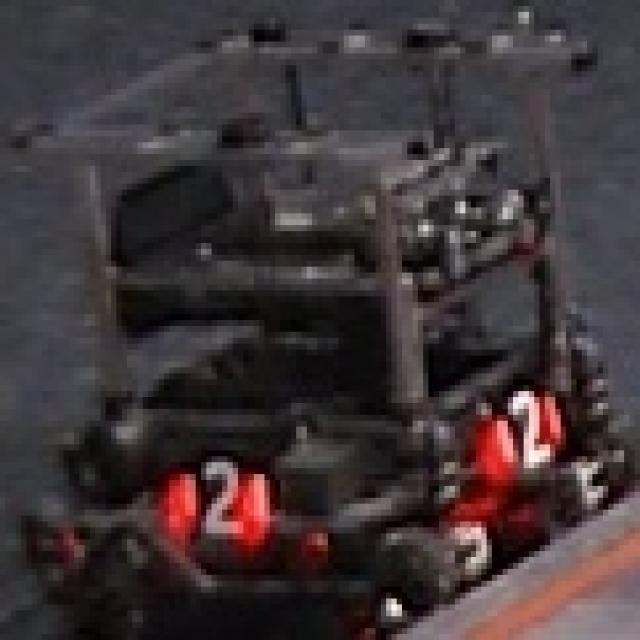R2: (143, 445, 291, 551), (466, 376, 572, 495)
